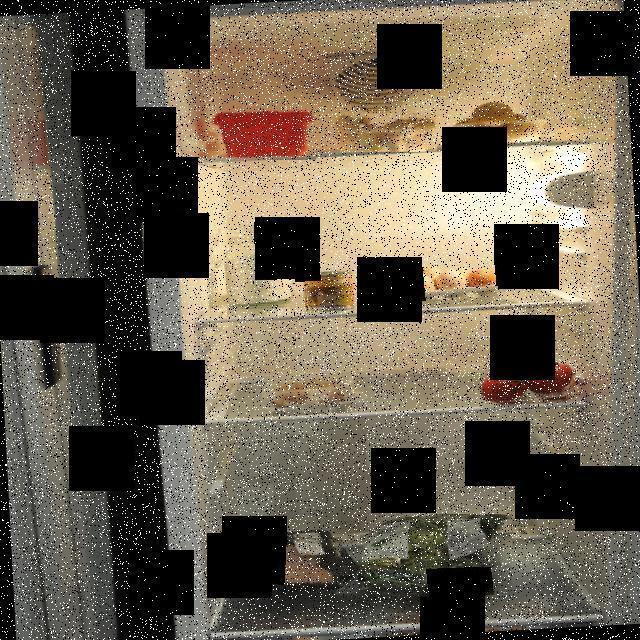butter: (210, 106, 316, 160)
chicken_breast: (245, 531, 342, 589)
corn: (304, 270, 354, 314)
egg: (398, 262, 498, 302)
mushrooms: (333, 108, 438, 152)
shrimp: (267, 374, 355, 412)
spinach: (336, 514, 512, 600)
sugar: (220, 222, 296, 309)
sweet_potato: (446, 100, 550, 150)
tomato: (480, 359, 578, 405)
